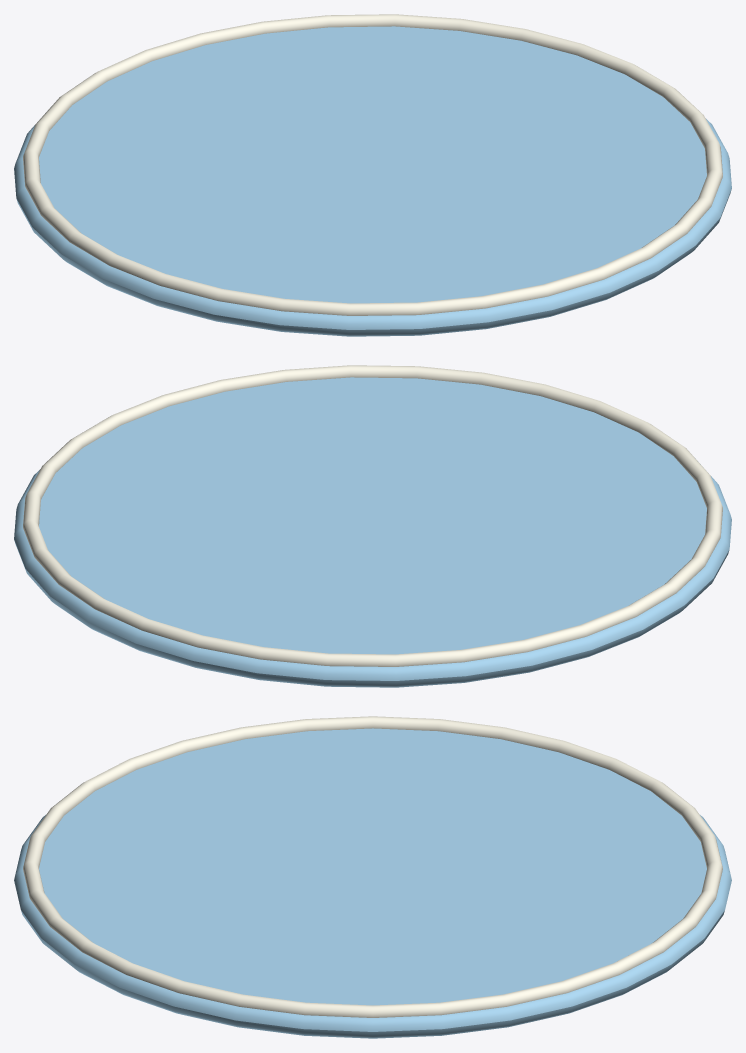
File: carpetRound.glb
3 renders of one model, top to bottom at view 1: azimuth 30°, elevation 25°; view 2: azimuth 150°, elevation 25°; view 3: azimuth 270°, elevation 25°, orthographic.
Visible parts, largest first — view 1: Round rug, Rug binding; view 2: Round rug, Rug binding; view 3: Round rug, Rug binding.
Boxes of the visible parts, x1,y1,x2,y2 form: Round rug: [14, 26, 731, 336]; Rug binding: [23, 14, 722, 315]; Round rug: [14, 377, 731, 687]; Rug binding: [23, 365, 722, 666]; Round rug: [14, 728, 731, 1038]; Rug binding: [23, 716, 722, 1017].
Size of the model in its own units: 1.7 by 0.0756 by 1.7.
